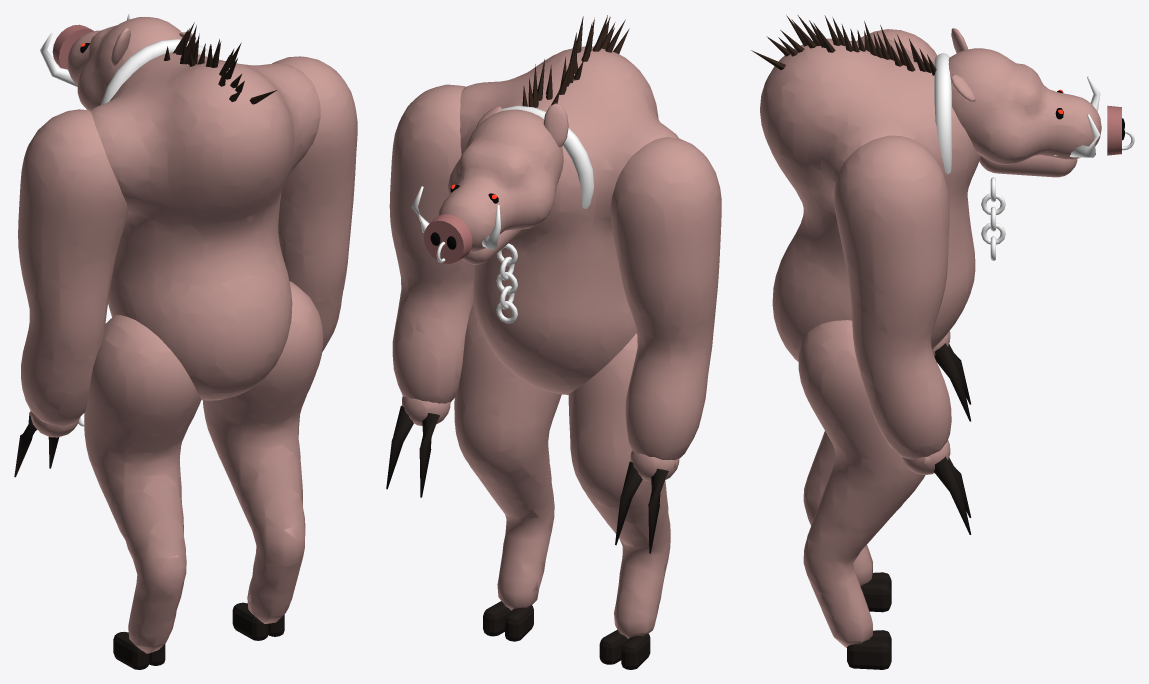
File: boar.glb
The picture shows the model from 3 angles, left to right: view 1: azimuth 30°, elevation 25°; view 2: azimuth 150°, elevation 25°; view 3: azimuth 270°, elevation 25°; orthographic projection. The views are drawn at different scales.
Parts seen in each view (by area): view 1: torso_mesh, arm_0_mesh, leg_0_mesh, leg_1_mesh, arm_1_mesh, head_mesh; view 2: torso_mesh, arm_0_mesh, arm_1_mesh, leg_1_mesh, leg_0_mesh, head_mesh; view 3: torso_mesh, arm_1_mesh, leg_1_mesh, head_mesh, leg_0_mesh, arm_0_mesh.
Boxes of the visible parts, x1=… form: torso_mesh: x1=90, y1=22, x2=320, y2=400; arm_0_mesh: x1=14, y1=109, x2=127, y2=477; leg_0_mesh: x1=84, y1=315, x2=201, y2=669; leg_1_mesh: x1=202, y1=281, x2=323, y2=640; arm_1_mesh: x1=272, y1=56, x2=357, y2=351; head_mesh: x1=40, y1=14, x2=195, y2=110; torso_mesh: x1=460, y1=15, x2=678, y2=394; arm_0_mesh: x1=610, y1=137, x2=721, y2=553; arm_1_mesh: x1=386, y1=84, x2=474, y2=497; leg_1_mesh: x1=454, y1=300, x2=561, y2=641; leg_0_mesh: x1=568, y1=333, x2=670, y2=669; head_mesh: x1=411, y1=103, x2=568, y2=264; torso_mesh: x1=751, y1=15, x2=1005, y2=361; arm_1_mesh: x1=834, y1=135, x2=971, y2=534; leg_1_mesh: x1=798, y1=320, x2=925, y2=669; head_mesh: x1=948, y1=28, x2=1134, y2=177; leg_0_mesh: x1=803, y1=431, x2=891, y2=612; arm_0_mesh: x1=856, y1=29, x2=970, y2=421.
Size of the model in its own units: 1.25 by 2.31 by 1.3.
